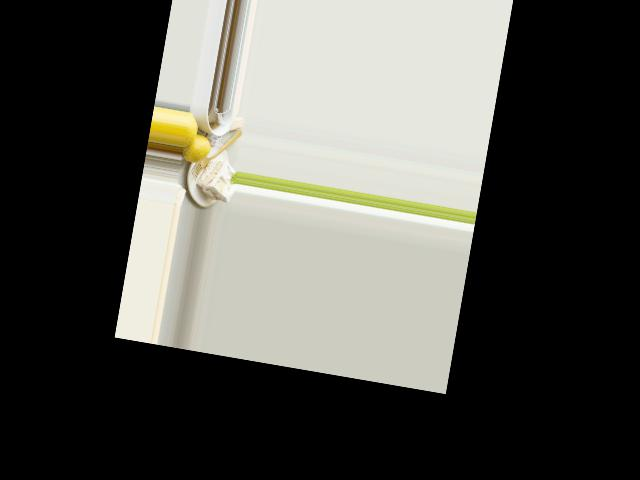lemon: (182, 111, 201, 149)
